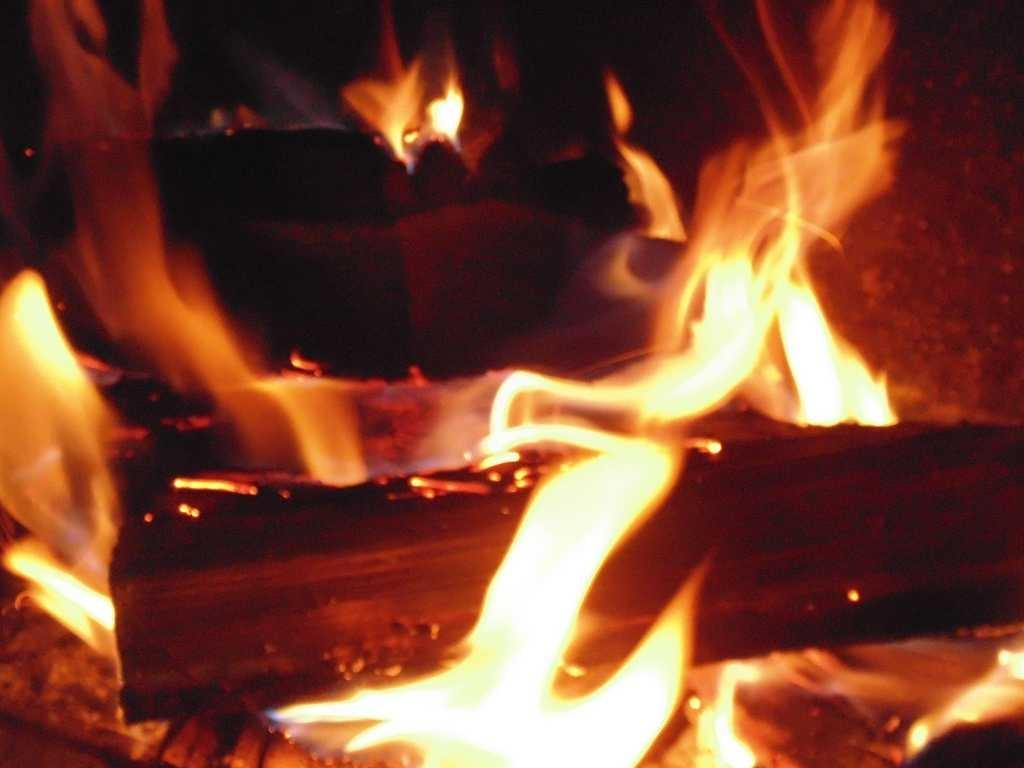fire: (706, 112, 886, 410), (528, 468, 626, 768), (8, 368, 102, 532)
